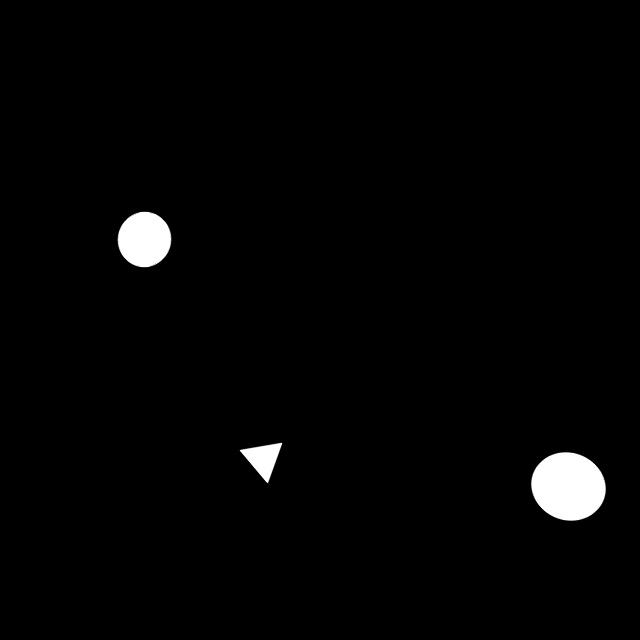Circle: (524, 444, 613, 535), (107, 204, 179, 276)
Triangle: (227, 435, 290, 496)
